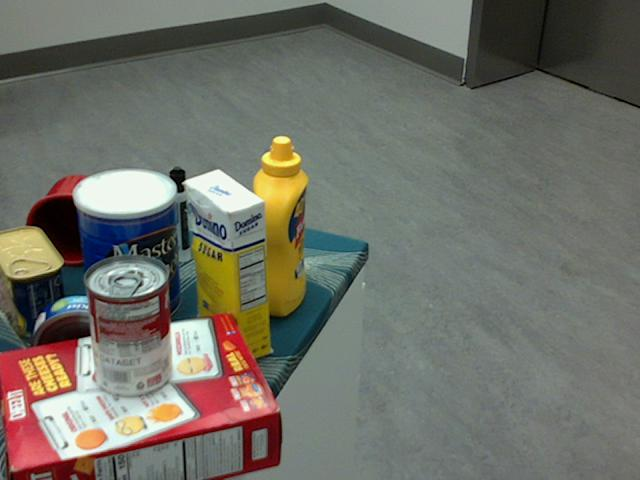cracker_box: (0, 314, 281, 479)
large_marker: (169, 166, 190, 261)
master_chef_can: (71, 168, 180, 330)
mug: (22, 174, 113, 267)
mustard_bottle: (250, 134, 308, 316)
potted_meat_can: (0, 225, 68, 341)
sugar_box: (185, 168, 270, 365)
tomato_soup_can: (82, 255, 170, 398)
tuna_fish_can: (30, 295, 125, 387)
